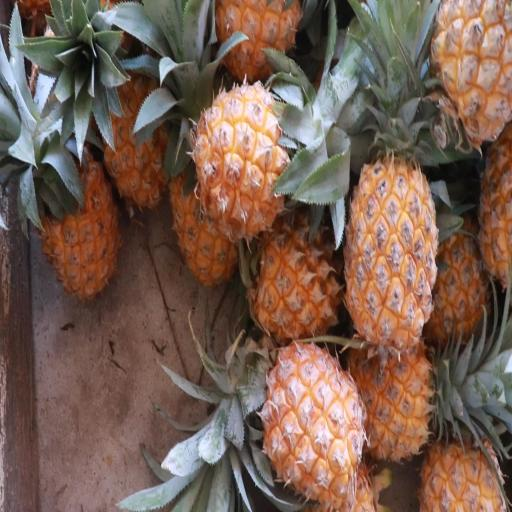Pineapple - v8 v1: (343, 123, 439, 355), (258, 338, 367, 511), (191, 76, 297, 246), (32, 120, 123, 306), (245, 205, 344, 350), (420, 0, 512, 151), (338, 325, 431, 467), (97, 50, 175, 218), (418, 372, 510, 512)
